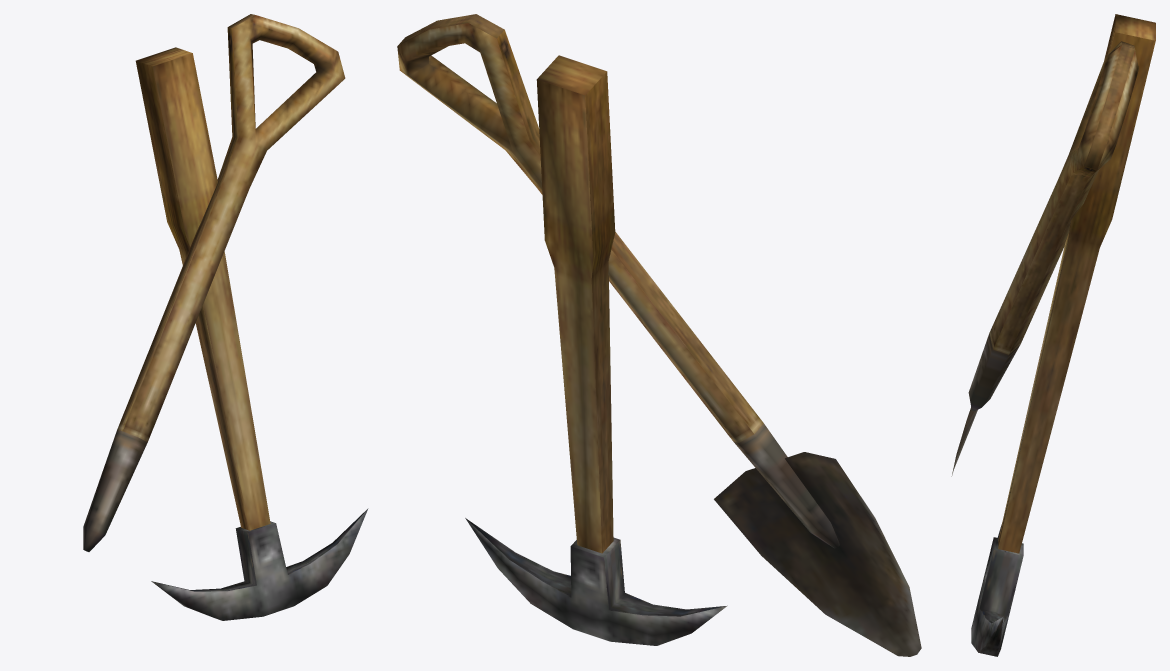
Rendered from cj_farmingtool1.glb.
The picture shows the model from 3 angles, left to right: view 1: azimuth 30°, elevation 25°; view 2: azimuth 150°, elevation 25°; view 3: azimuth 270°, elevation 25°; orthographic projection. The views are drawn at different scales.
Visible parts, largest first — view 1: CJ_FarmingTool; view 2: CJ_FarmingTool; view 3: CJ_FarmingTool.
Part boxes in pixels (x1=…): CJ_FarmingTool: x1=83, y1=14, x2=368, y2=620; CJ_FarmingTool: x1=397, y1=14, x2=921, y2=656; CJ_FarmingTool: x1=951, y1=14, x2=1155, y2=656.
Size of the model in its own units: 0.5667 by 0.7881 by 0.2362.
1 material, 1 textured.
